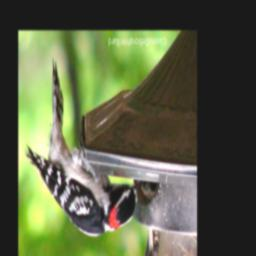Woodpecker: (22, 56, 143, 239)
